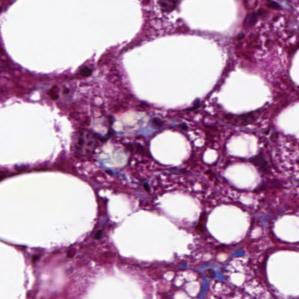inflammation: (241, 0, 287, 56), (118, 128, 156, 171)
